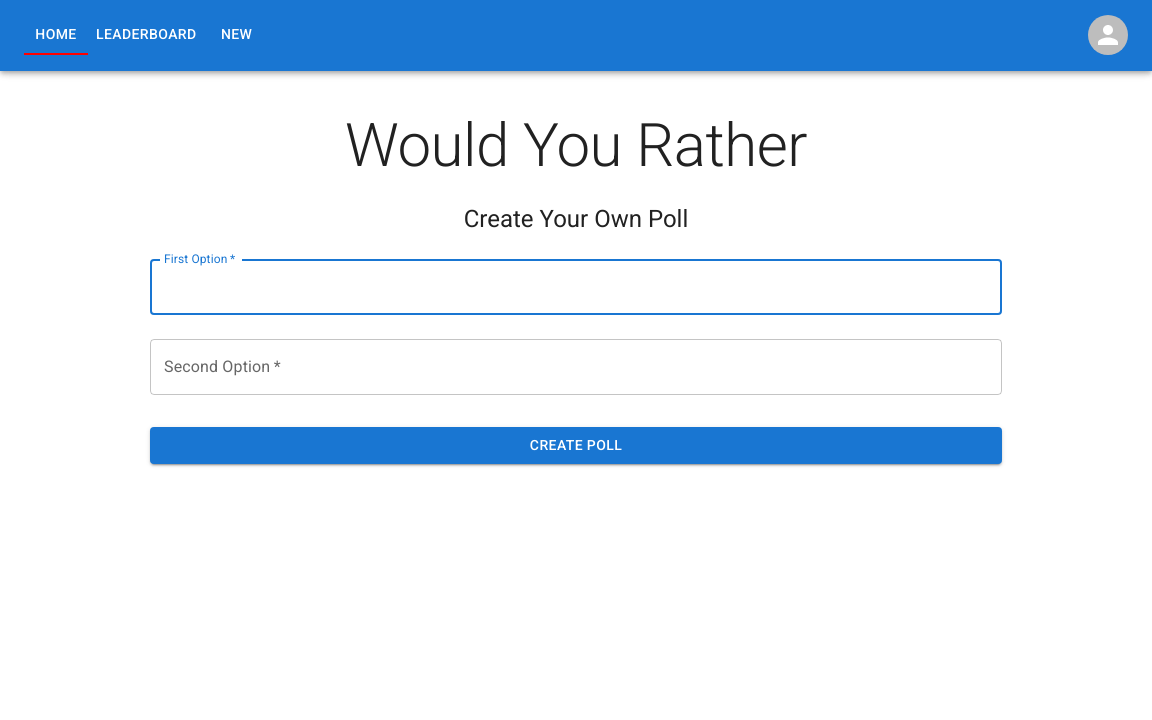
Test: New › will show error toast when submit button is clicked and no text is entered
Click the button with test id "submit-button" at coordinates (576, 446), box x1=150 y1=428 x2=1002 y2=464
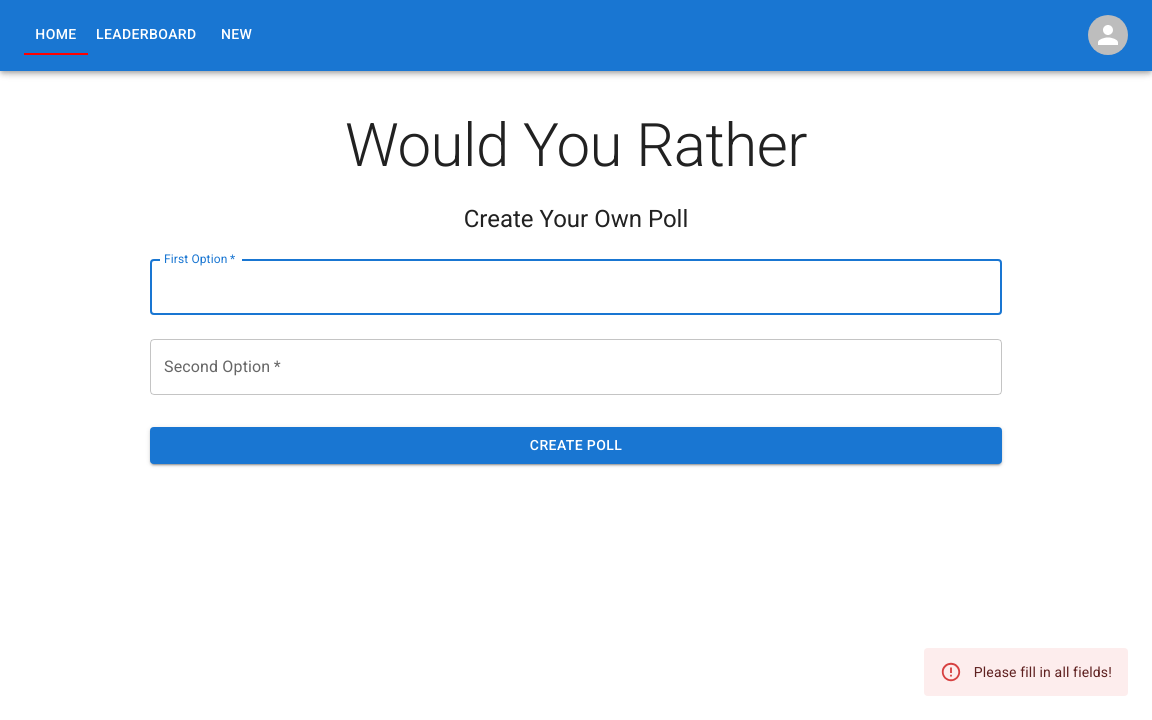
Expected: the text "Please fill in all fields!" is shown, x1=974 y1=664 x2=1112 y2=680
